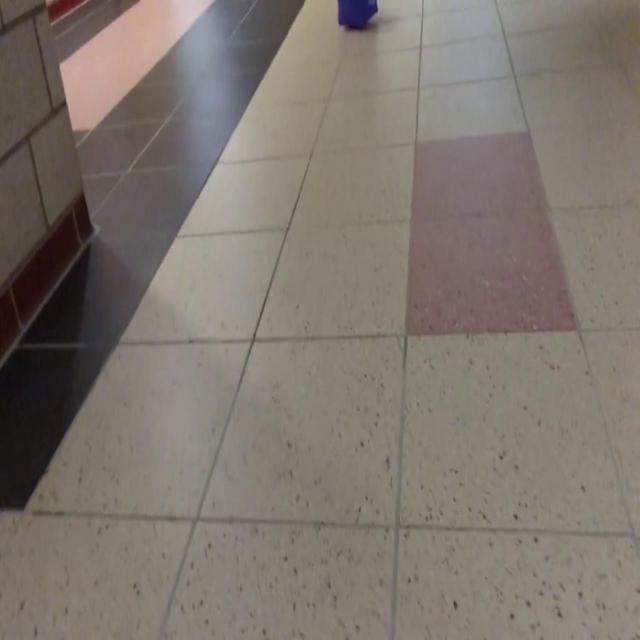frc_cube: (337, 0, 379, 28)
